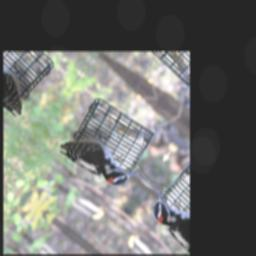Woodpecker: (57, 114, 145, 199)
